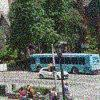buses: (28, 53, 100, 74)
